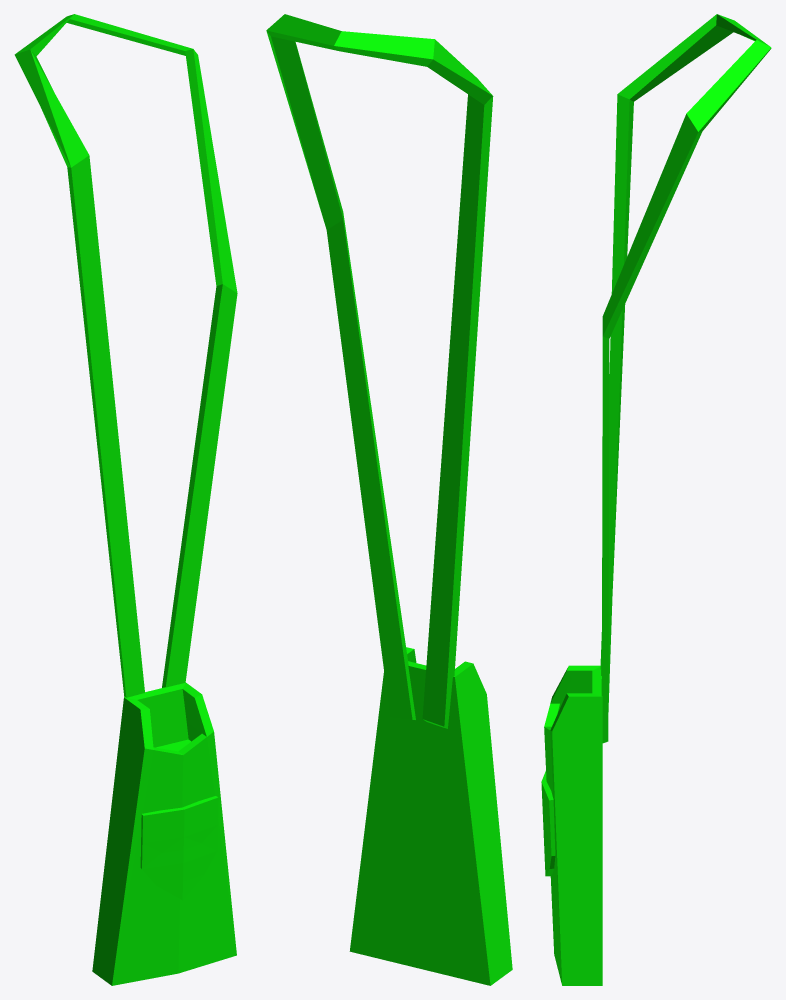
File: SM_Quiver_Bolt_A_Placed_Fantasy.fbx
3 views of the same model, side by side, from view 1: azimuth 30°, elevation 25°; view 2: azimuth 150°, elevation 25°; view 3: azimuth 270°, elevation 25° (orthographic). The views are drawn at different scales.
Visible parts, largest first — view 1: quiver-bolt-a-placed-fantasy; view 2: quiver-bolt-a-placed-fantasy; view 3: quiver-bolt-a-placed-fantasy.
Part boxes in pixels (box(x1,y1,x2,y2)): quiver-bolt-a-placed-fantasy: box(14, 14, 237, 985); quiver-bolt-a-placed-fantasy: box(266, 14, 512, 985); quiver-bolt-a-placed-fantasy: box(541, 14, 771, 985).
Size of the model in its own units: 0.1964 by 1.01 by 0.2298.
